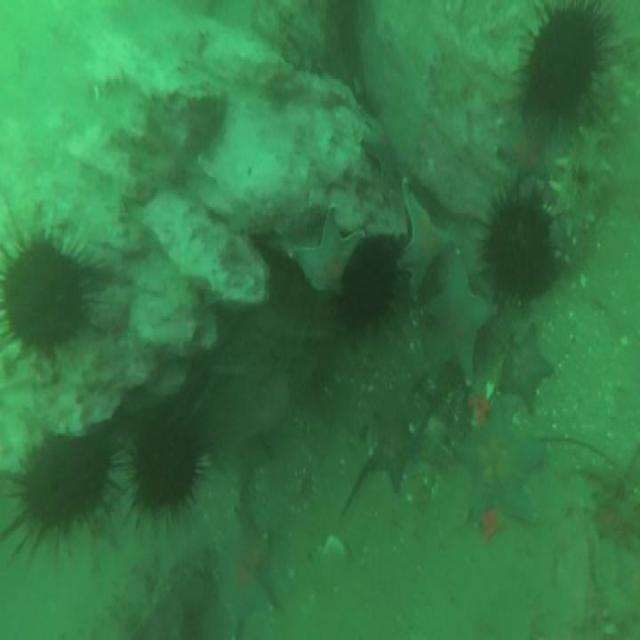echinus: (3, 240, 89, 354), (15, 434, 110, 536), (525, 7, 599, 118), (484, 188, 552, 296), (132, 419, 198, 510), (337, 238, 397, 326)
holothurian: (556, 119, 610, 240)
starfish: (457, 406, 539, 526), (428, 251, 496, 387), (213, 509, 274, 629), (284, 204, 364, 291), (402, 194, 448, 297), (501, 327, 552, 413), (365, 416, 417, 485), (362, 110, 404, 192), (500, 117, 548, 183)
